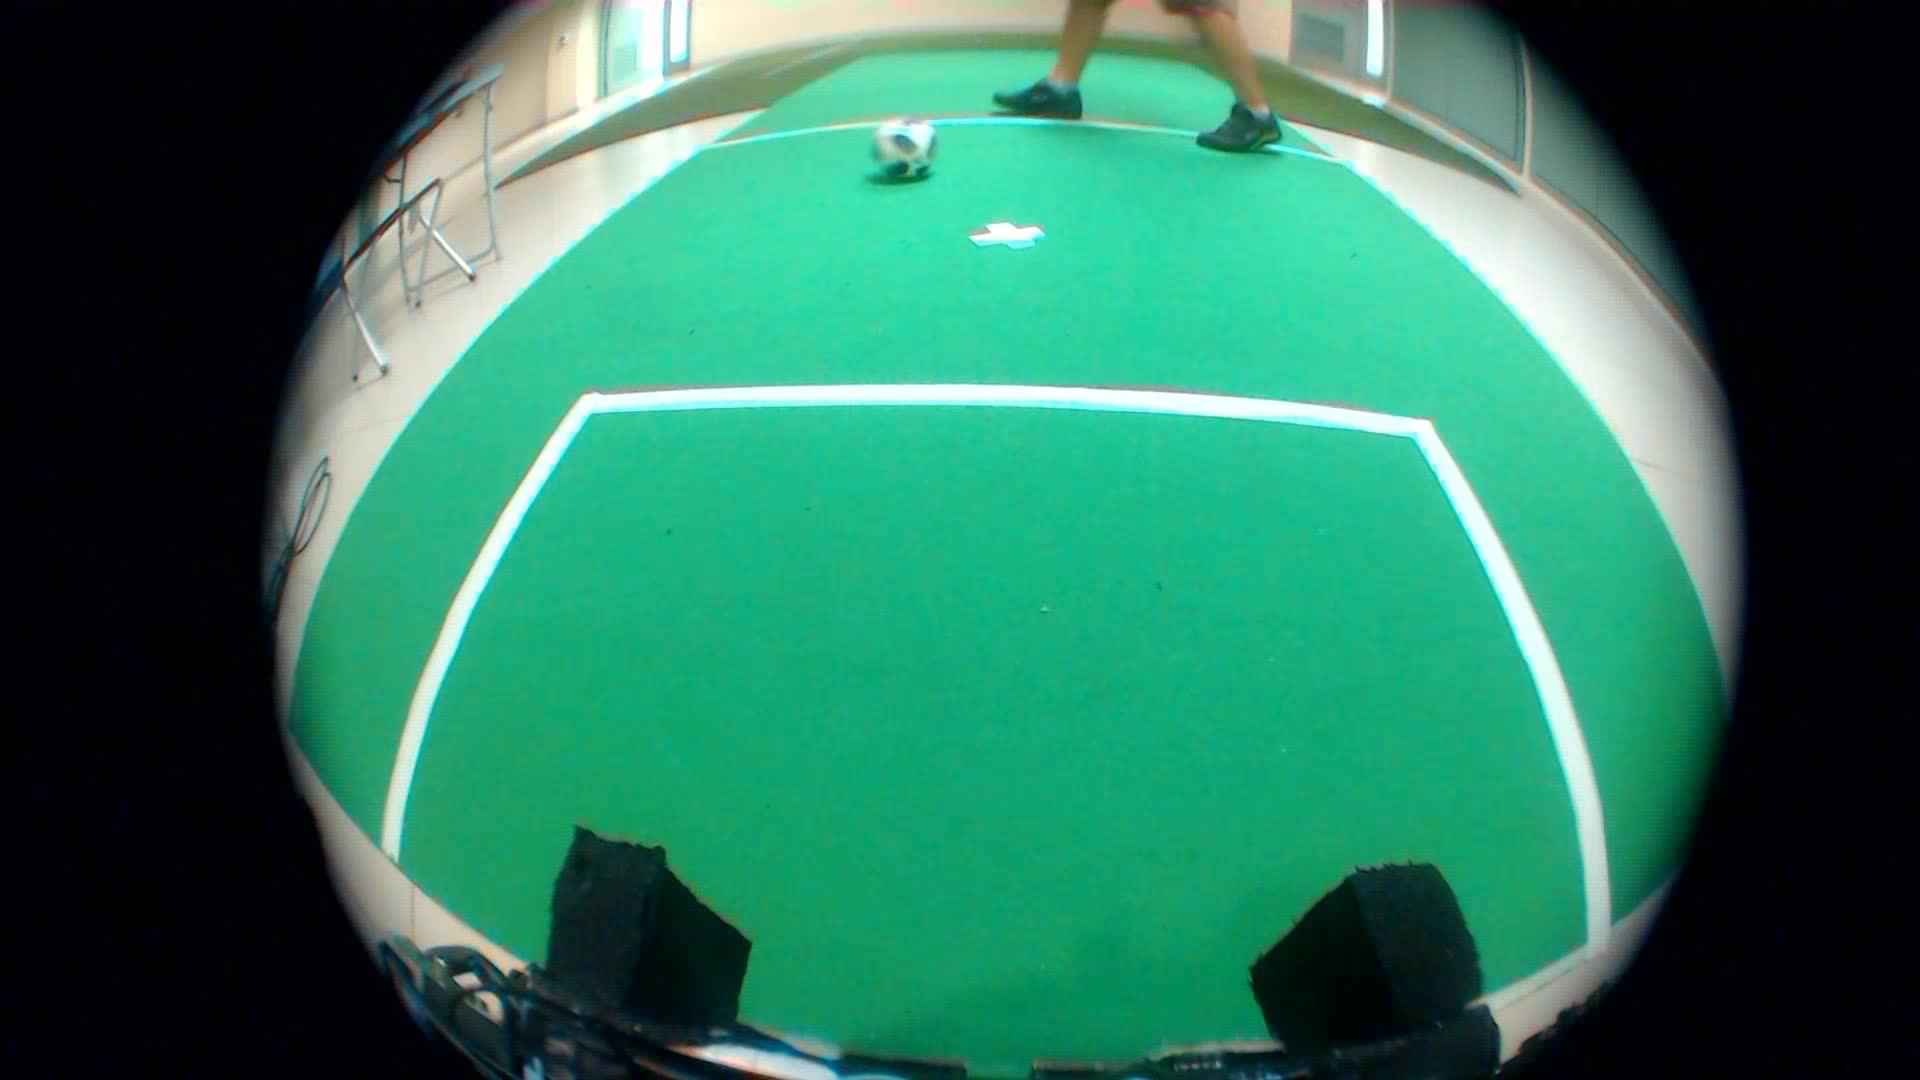ball: (870, 102, 949, 193)
